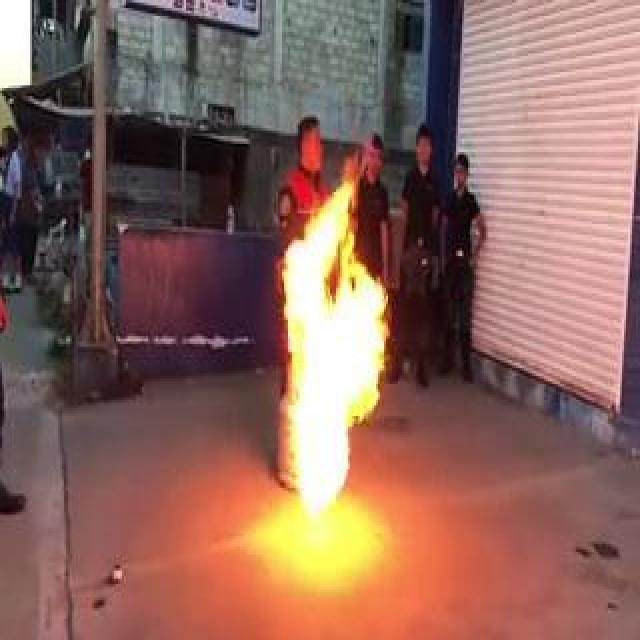Fire: (277, 179, 393, 541)
